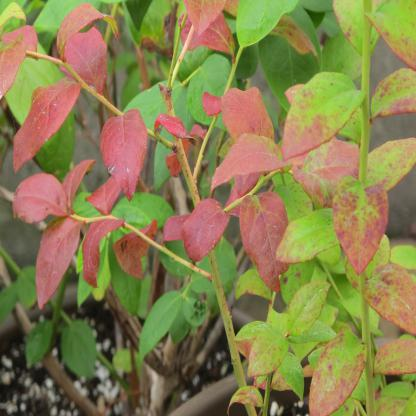blueberry leaf: (285, 65, 372, 165), (4, 74, 86, 180), (333, 175, 395, 277), (238, 190, 295, 291), (203, 130, 292, 194), (55, 7, 114, 97), (35, 207, 84, 312), (277, 204, 351, 273), (302, 337, 367, 415), (216, 86, 277, 163), (99, 105, 147, 200), (362, 255, 416, 337), (176, 182, 231, 259), (133, 290, 190, 364), (79, 212, 128, 298), (231, 318, 292, 379), (10, 167, 63, 233), (56, 150, 101, 218), (283, 283, 339, 337)
